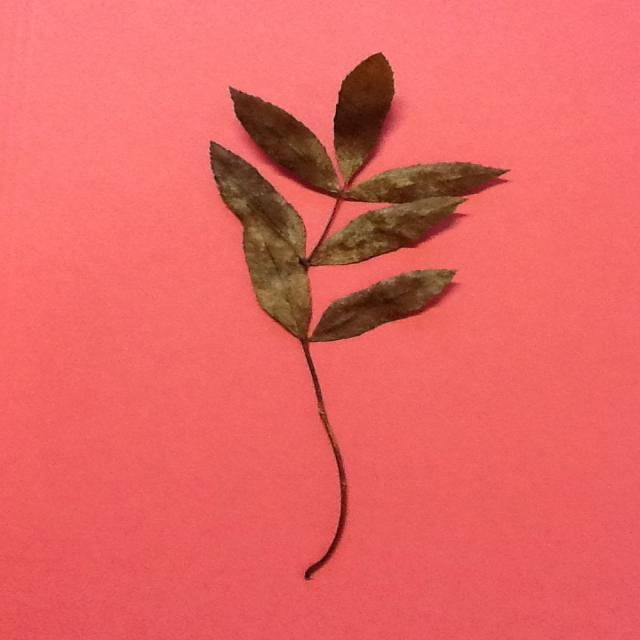foliage: (226, 86, 341, 192), (304, 192, 464, 268), (307, 266, 457, 344), (212, 142, 308, 254), (245, 216, 315, 340), (336, 52, 394, 184), (334, 162, 508, 202)
